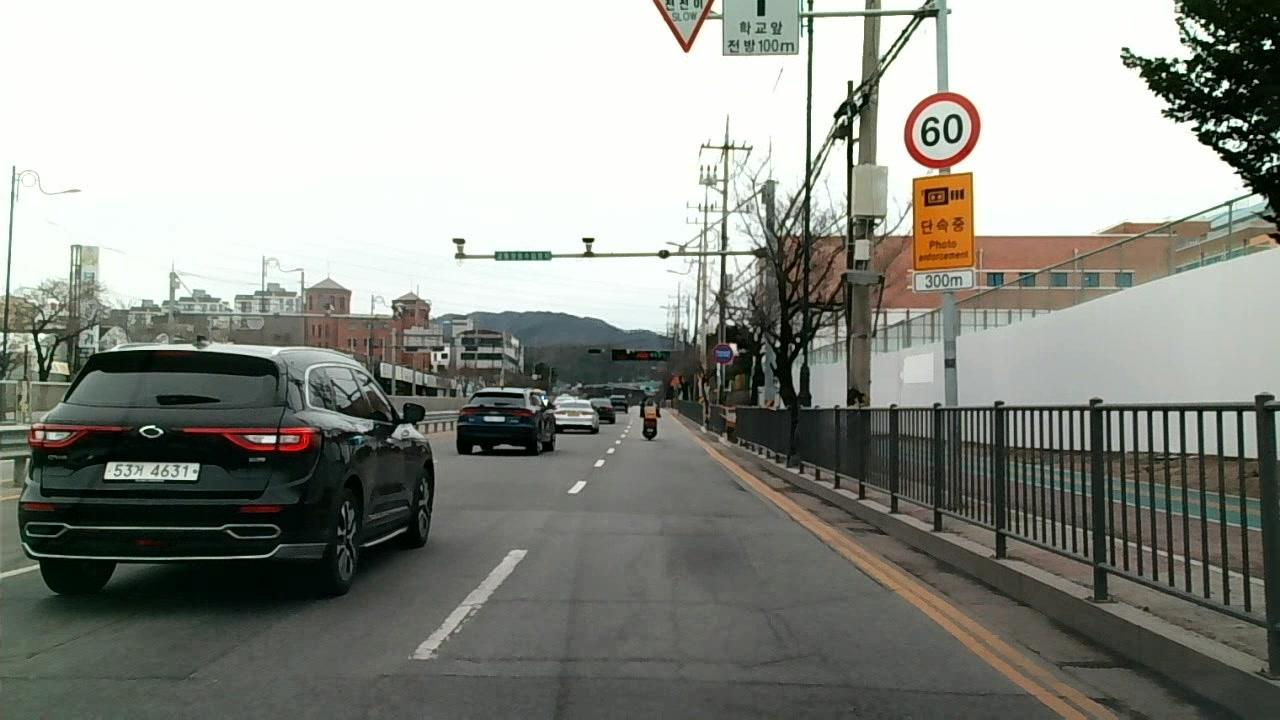hcrack: (436, 670, 1033, 697), (3, 674, 190, 684)
vcrack: (19, 613, 122, 654)
